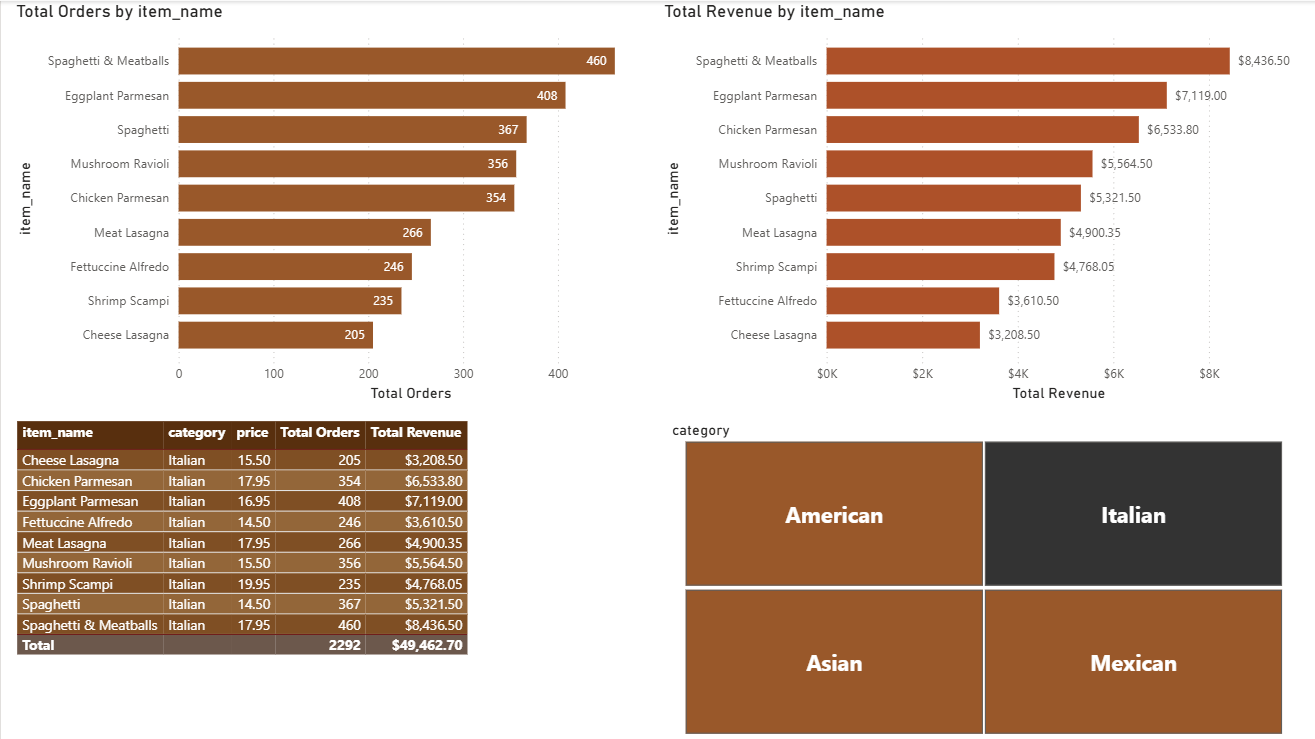

Layout of this report page (visuals, bound fields, positions):
{"tool":"powerbi","page":{"name":"Menu Performance","canvas":[1280,720],"ordinal":1},"visuals":[{"type":"clusteredBarChart","fields":{"Category":["menu_items_exp.item_name"],"Y":["Measures1.Total Orders"]},"box":[9.7,0,630.3,393.9],"z":0},{"type":"clusteredBarChart","fields":{"Category":["menu_items_exp.item_name"],"Y":["Measures1.Total Revenue"]},"box":[640,0,630.3,393.9],"z":1000},{"type":"tableEx","fields":{"Values":["menu_items_exp.item_name","menu_items_exp.category","menu_items_exp.price","Measures1.Total Orders","Measures1.Total Revenue"]},"box":[9.7,403.6,630.3,316.1],"z":2000},{"type":"slicer","fields":{"Values":["menu_items_exp.category"]},"box":[640,403.6,630.3,316.1],"z":3000}]}

Visuals, with their boxes in screenshot pixels (x1, y1, x2, y2), scaled from the page's 1280x720 canvas onto the 1315x739 screenshot:
clusteredBarChart - menu_items_exp.item_name x Measures1.Total Orders: 10/0/658/404
clusteredBarChart - menu_items_exp.item_name x Measures1.Total Revenue: 658/0/1305/404
tableEx - menu_items_exp.item_name x menu_items_exp.category: 10/414/658/738
slicer - menu_items_exp.category: 658/414/1305/738
